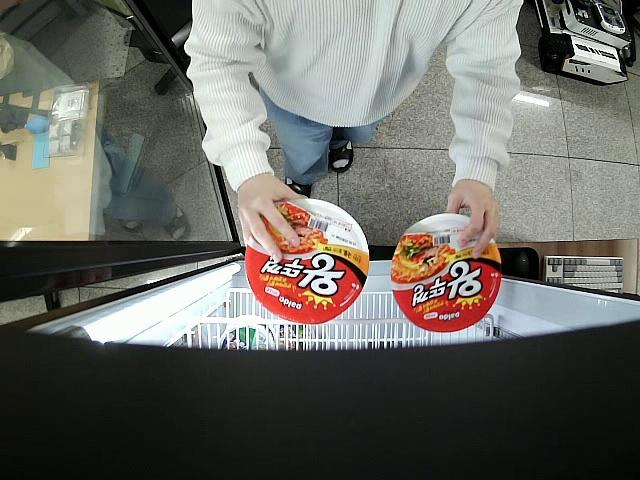00_hand: (236, 175, 309, 263), (443, 180, 499, 261)
10_wangTtukkeong: (246, 197, 369, 324), (391, 214, 501, 333)
